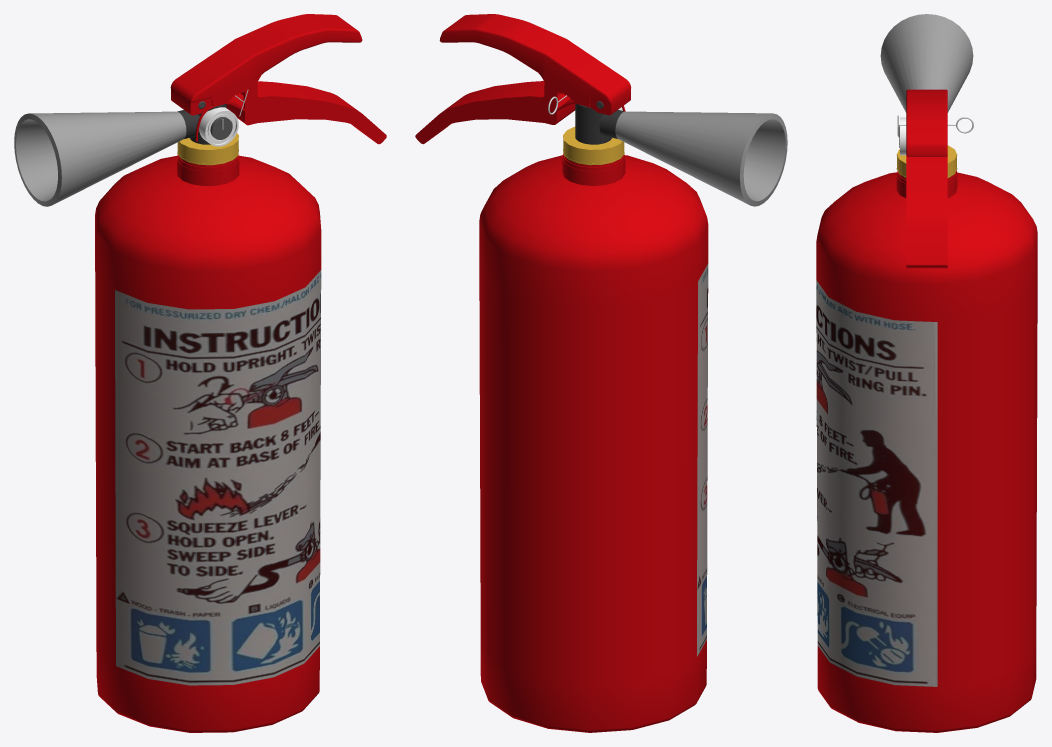
File: Fire extinguisher(1).fbx
3 renders of one model, left to right at view 1: azimuth 30°, elevation 25°; view 2: azimuth 150°, elevation 25°; view 3: azimuth 270°, elevation 25°, orthographic. The views are drawn at different scales.
Parts seen in each view (by area): view 1: Body, Handle, Cylinder.001, Gold knob, Metre; view 2: Body, Handle, Cylinder.001, Gold knob, Body.001; view 3: Body, Handle, Cylinder.001, Gold knob.
Part boxes in pixels (x1=…): Body: x1=95, y1=154, x2=321, y2=732; Handle: x1=170, y1=14, x2=386, y2=144; Cylinder.001: x1=14, y1=111, x2=186, y2=206; Gold knob: x1=177, y1=133, x2=238, y2=165; Metre: x1=199, y1=107, x2=238, y2=146; Body: x1=479, y1=153, x2=708, y2=732; Handle: x1=415, y1=14, x2=631, y2=144; Cylinder.001: x1=615, y1=111, x2=787, y2=206; Gold knob: x1=563, y1=126, x2=624, y2=165; Body.001: x1=575, y1=104, x2=624, y2=144; Body: x1=816, y1=170, x2=1037, y2=732; Handle: x1=906, y1=89, x2=947, y2=268; Cylinder.001: x1=880, y1=14, x2=973, y2=112; Gold knob: x1=896, y1=145, x2=957, y2=177.
Size of the model in its own units: 251 by 452 by 146.
11 materials, 1 textured.
